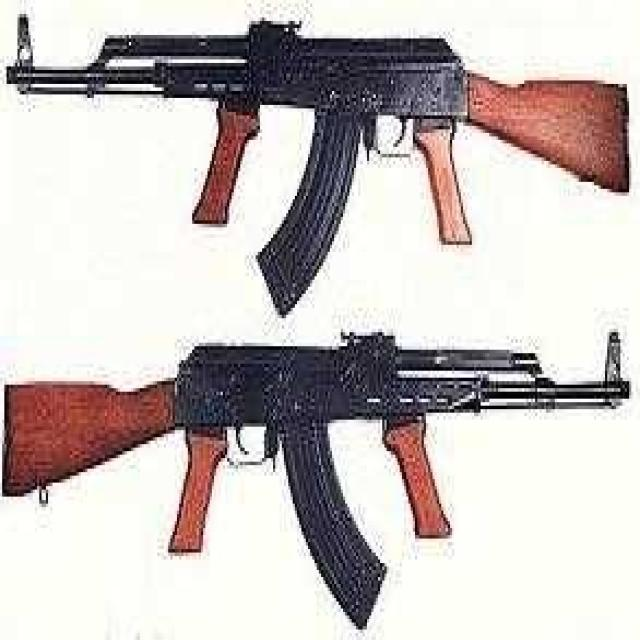heavyweapon: (3, 327, 637, 617), (8, 12, 630, 292)
